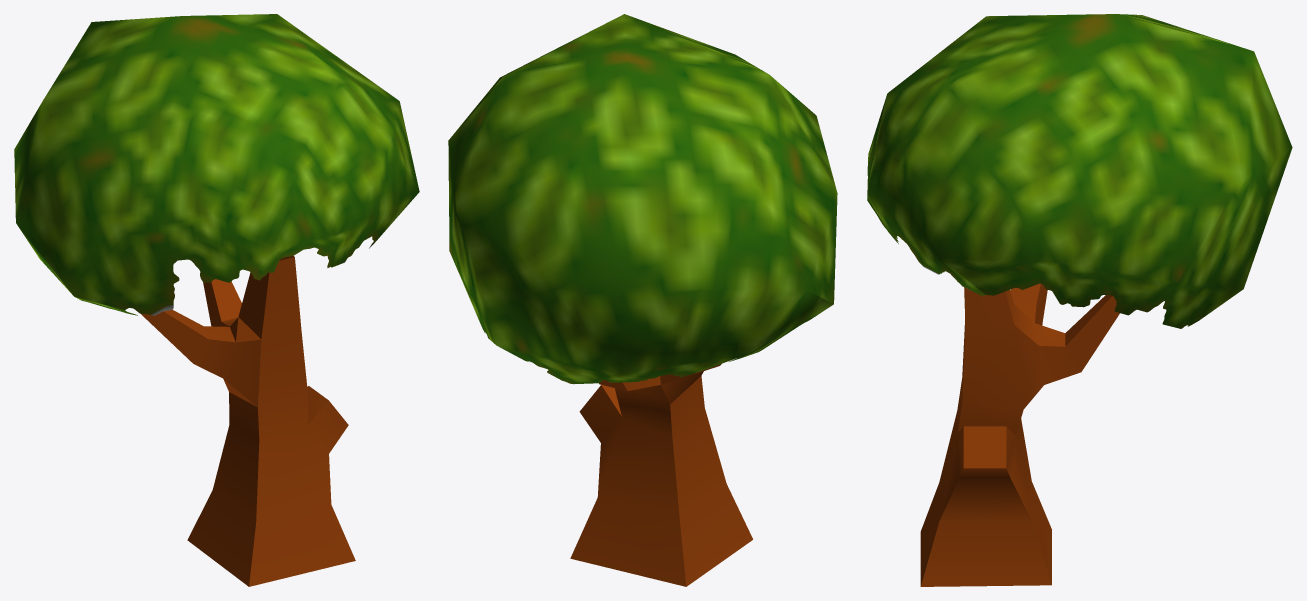
File: SM_Tree_F02.fbx
3 views of the same model, side by side, from view 1: azimuth 30°, elevation 25°; view 2: azimuth 150°, elevation 25°; view 3: azimuth 270°, elevation 25° (orthographic). The views are drawn at different scales.
Visible parts, largest first — view 1: SM_Tree_F02; view 2: SM_Tree_F02; view 3: SM_Tree_F02.
Part boxes in pixels (left/top/right/bottom): SM_Tree_F02: left=14, top=14, right=419, bottom=586; SM_Tree_F02: left=448, top=14, right=837, bottom=586; SM_Tree_F02: left=867, top=14, right=1292, bottom=586.
Size of the model in its own units: 286 by 404 by 294.
